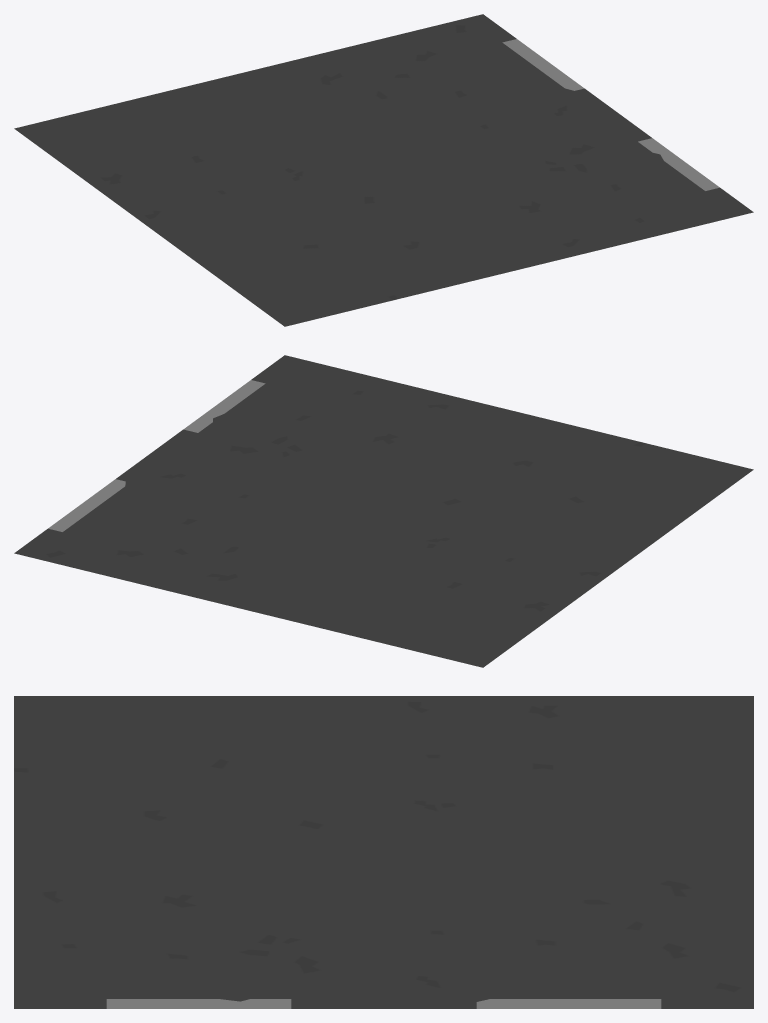
File: SM_Env_Road_01.glb
3 views of the same model, one above another, from view 1: azimuth 30°, elevation 25°; view 2: azimuth 150°, elevation 25°; view 3: azimuth 270°, elevation 25° (orthographic). The views are drawn at different scales.
Visible parts, largest first — view 1: SM_Env_Road_01; view 2: SM_Env_Road_01; view 3: SM_Env_Road_01.
Part boxes in pixels (bbox=[...]): SM_Env_Road_01: bbox=[14, 14, 753, 326]; SM_Env_Road_01: bbox=[14, 355, 753, 667]; SM_Env_Road_01: bbox=[14, 696, 753, 1008].
Bounding box in the file's own units: 5 × 1.12e-08 × 5.
Materials: 1 (1 with a texture image).
